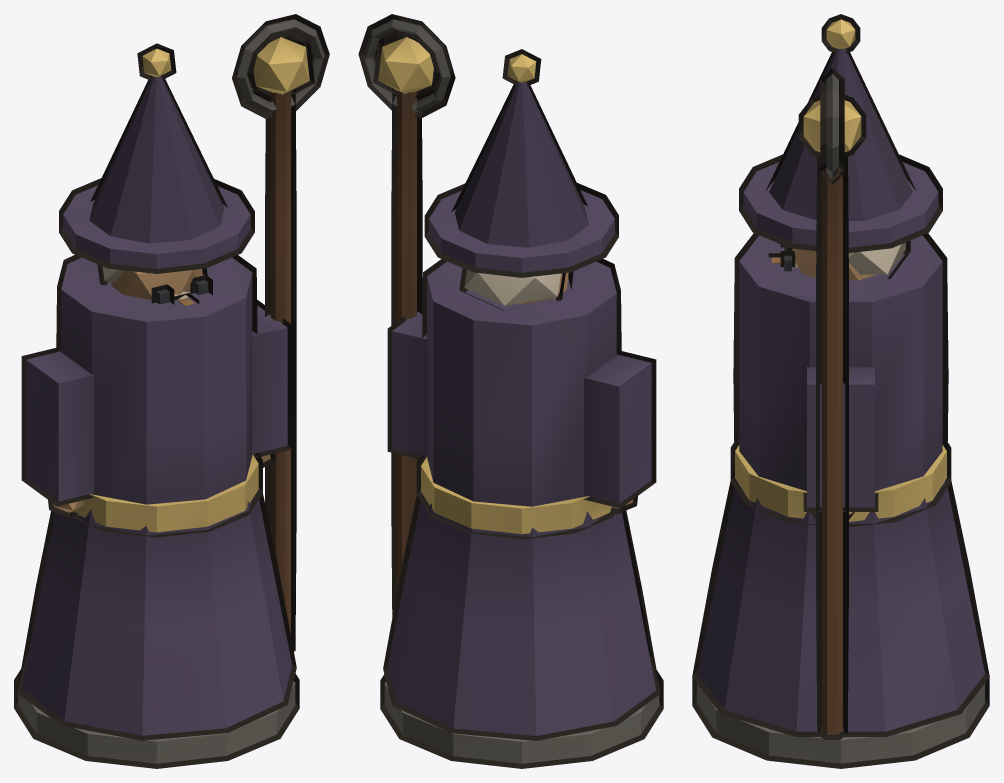
The model's file is pnj_mage.glb.
The picture shows the model from 3 angles, left to right: view 1: azimuth 30°, elevation 25°; view 2: azimuth 150°, elevation 25°; view 3: azimuth 270°, elevation 25°; orthographic projection. The views are drawn at different scales.
Visible parts, largest first — view 1: pnj_mage, pnj_mage_outline; view 2: pnj_mage, pnj_mage_outline; view 3: pnj_mage, pnj_mage_outline.
Part boxes in pixels (x1,y1,x2,y2): pnj_mage: (18, 19, 324, 763); pnj_mage_outline: (14, 14, 329, 768); pnj_mage: (363, 19, 659, 763); pnj_mage_outline: (358, 14, 663, 768); pnj_mage: (697, 19, 984, 763); pnj_mage_outline: (692, 14, 989, 768).
Bounding box in the file's own units: 0.8296 × 1.8 × 0.7029.
